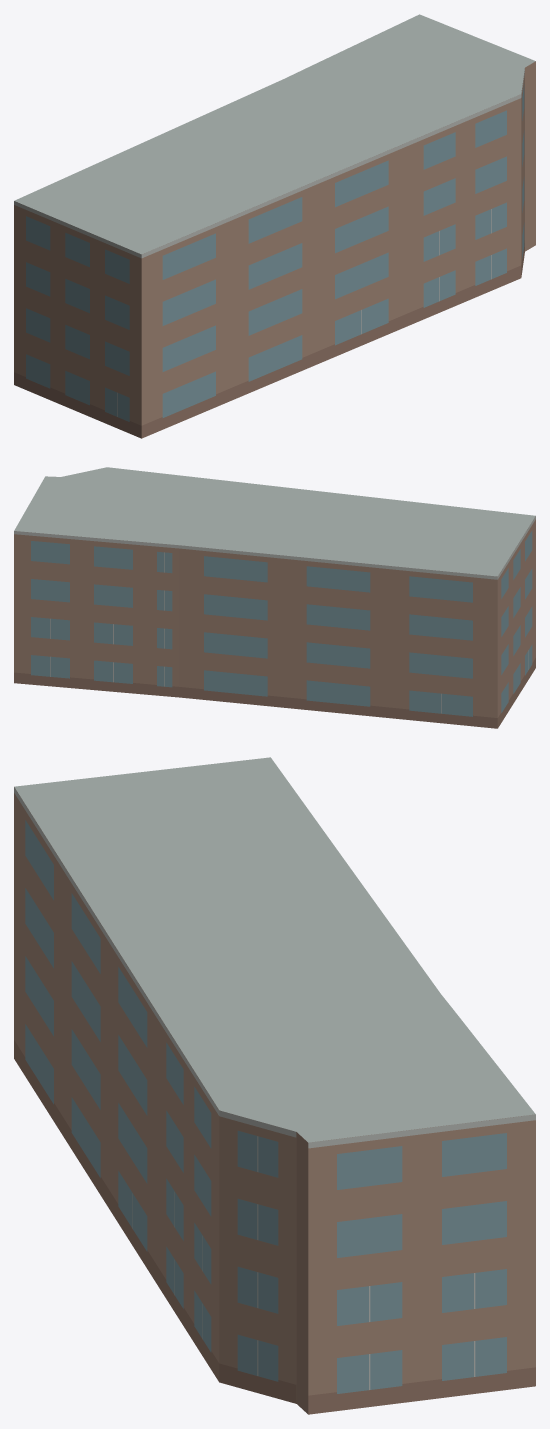
Rendered from survey-upis-32848414.glb.
3 views of the same model, one above another, from view 1: azimuth 30°, elevation 25°; view 2: azimuth 150°, elevation 25°; view 3: azimuth 270°, elevation 25° (orthographic). The views are drawn at different scales.
Parts seen in each view (by area): view 1: survey-upis-32848414.tmp; view 2: survey-upis-32848414.tmp; view 3: survey-upis-32848414.tmp.
Boxes of the visible parts, bbox=[...] form: survey-upis-32848414.tmp: bbox=[14, 14, 535, 438]; survey-upis-32848414.tmp: bbox=[14, 467, 535, 728]; survey-upis-32848414.tmp: bbox=[14, 757, 535, 1414].
Bounding box in the file's own units: 34.34 × 11.3 × 19.65.
